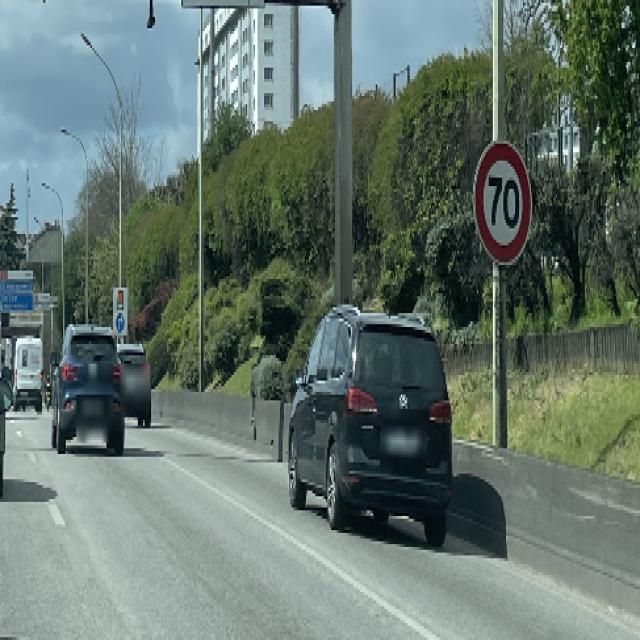speed_70: (473, 142, 532, 266)
